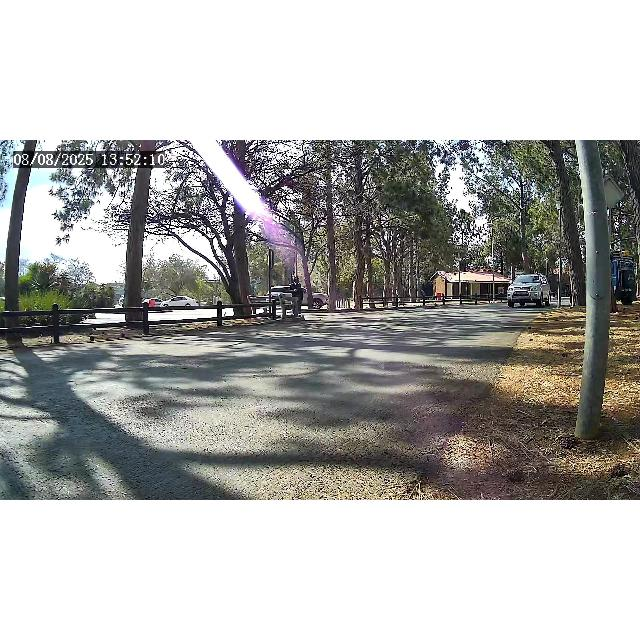car: (508, 274, 548, 308)
